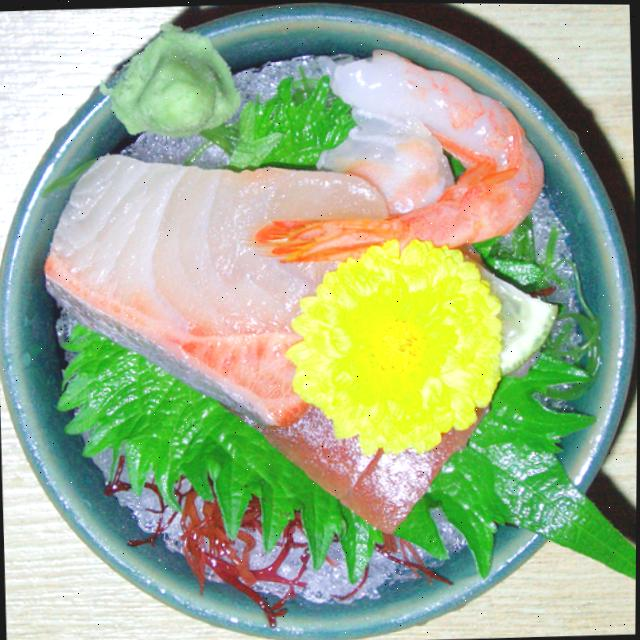刺身生食: (0, 0, 631, 610)
